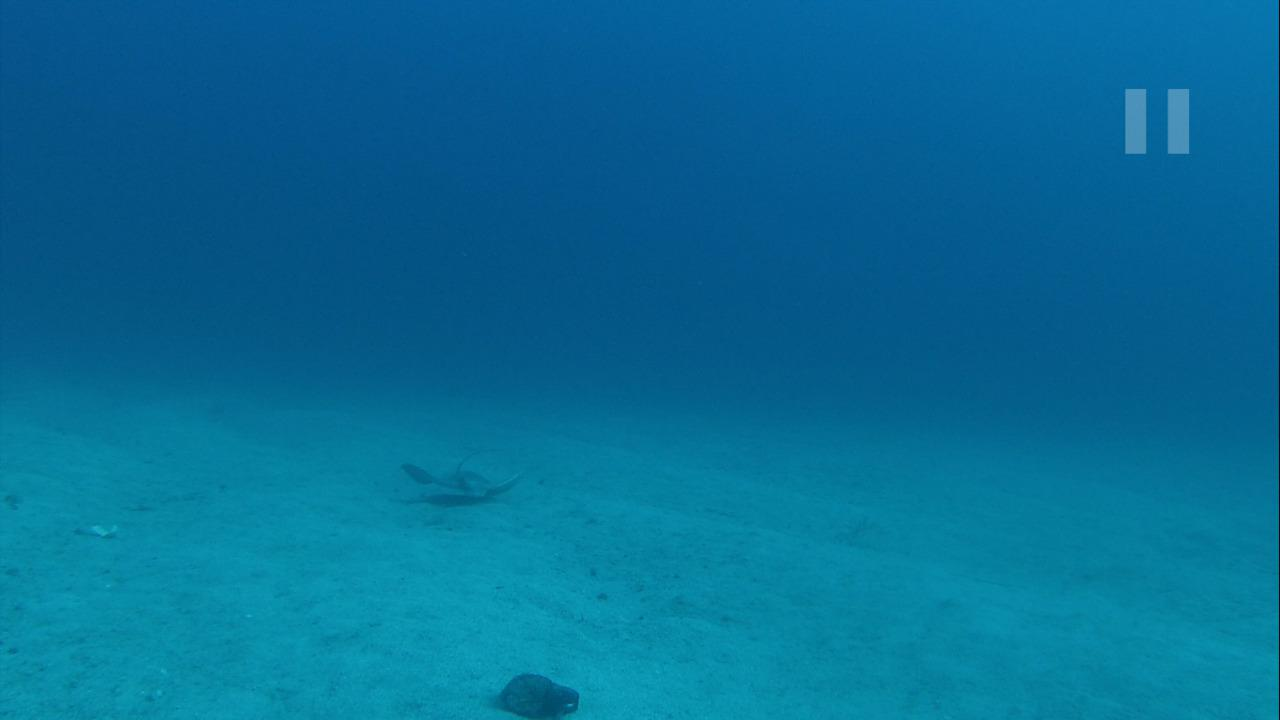myliobatis: (397, 451, 542, 504)
